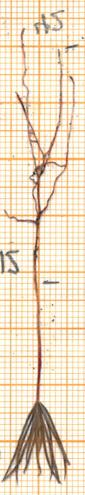flower: (0, 398, 85, 488)
root: (0, 27, 85, 282)
stem: (29, 282, 47, 398)
